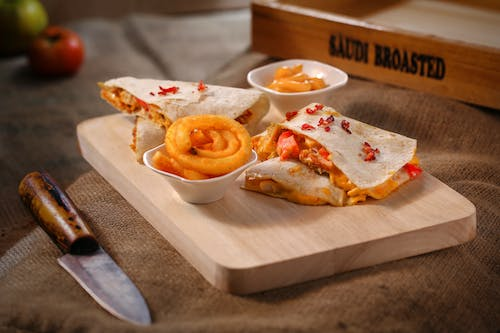knife: (17, 168, 152, 326)
